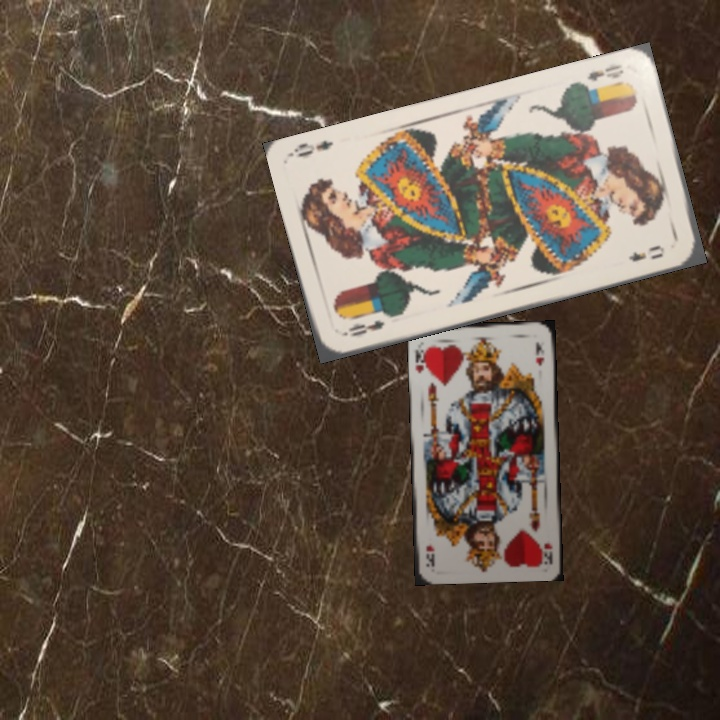EO: (572, 60, 626, 93), (338, 316, 387, 340)
HK: (411, 343, 431, 376), (538, 539, 555, 565)
